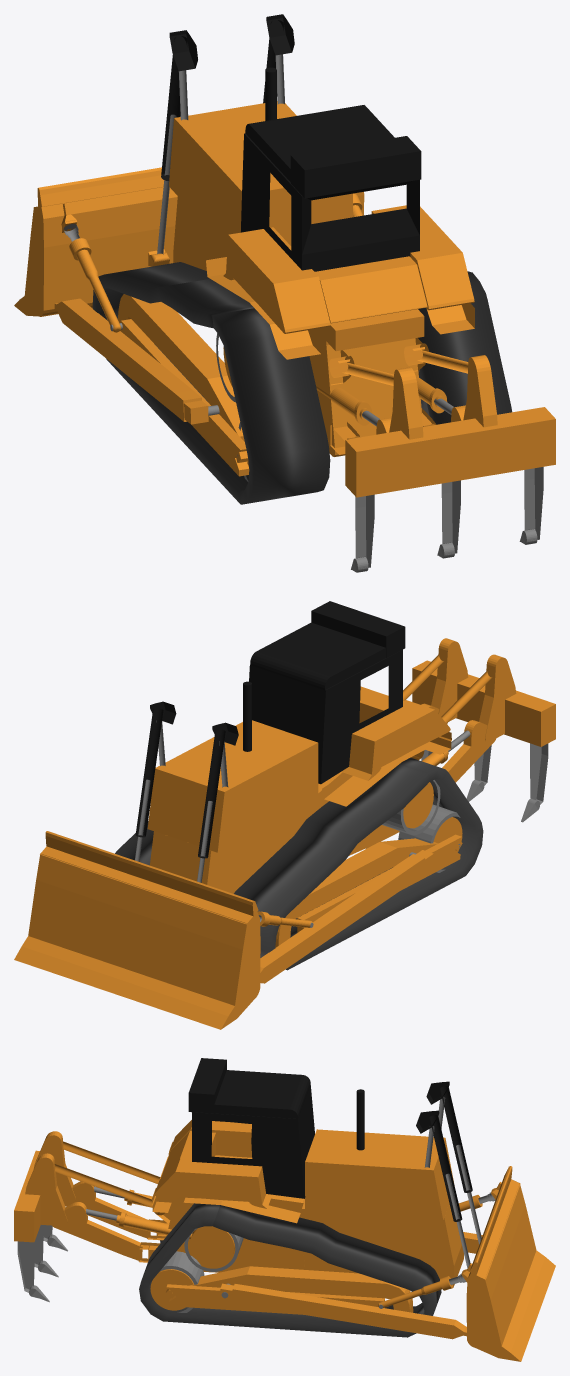
The model's file is dozer_rot.glb.
3 renders of one model, top to bottom at view 1: azimuth 30°, elevation 25°; view 2: azimuth 150°, elevation 25°; view 3: azimuth 270°, elevation 25°, orthographic. The views are drawn at different scales.
Visible parts, largest first — view 1: Mesh_0.003; view 2: Mesh_0.003; view 3: Mesh_0.003.
Boxes of the visible parts, <box> form: Mesh_0.003: <box>14,14,555,572</box>; Mesh_0.003: <box>14,601,555,1029</box>; Mesh_0.003: <box>14,1058,555,1361</box>.
Bounding box in the file's own units: 2.35 × 2.11 × 4.79.
